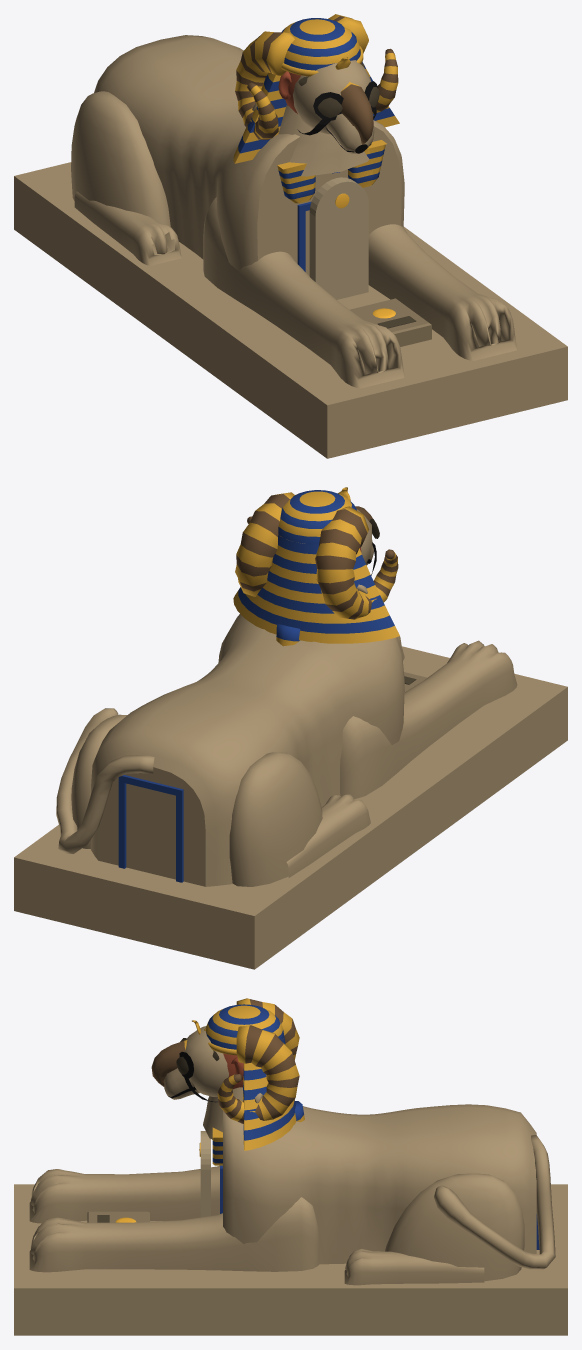
Rendered from sphinx.glb.
3 renders of one model, top to bottom at view 1: azimuth 30°, elevation 25°; view 2: azimuth 150°, elevation 25°; view 3: azimuth 270°, elevation 25°, orthographic. The views are drawn at different scales.
Visible parts, largest first — view 1: base, body, foreleg_mirror, foreleg, ram_head, king_head, stele, falcon_head, slab, falcon_beak, passage_frames; view 2: body, base, king_head, foreleg_mirror, ram_head, rump_plug, passage_frames; view 3: body, base, foreleg, foreleg_mirror, ram_head, king_head, falcon_head, stele, falcon_beak, slab.
Boxes of the visible parts, <box> form: base: <box>14,162,567,458</box>; body: <box>71,35,404,270</box>; foreleg_mirror: <box>203,197,404,388</box>; foreleg: <box>368,224,517,360</box>; ram_head: <box>235,14,398,176</box>; king_head: <box>233,18,399,203</box>; stele: <box>309,177,368,299</box>; falcon_head: <box>293,60,377,202</box>; slab: <box>350,298,431,346</box>; falcon_beak: <box>340,82,373,144</box>; passage_frames: <box>297,202,311,271</box>; body: <box>56,614,404,886</box>; base: <box>14,646,567,969</box>; king_head: <box>233,490,399,646</box>; foreleg_mirror: <box>340,640,517,799</box>; ram_head: <box>235,492,398,619</box>; rump_plug: <box>126,783,175,879</box>; passage_frames: <box>118,775,183,882</box>; body: <box>223,1104,555,1285</box>; base: <box>14,1184,567,1335</box>; foreleg: <box>29,1197,319,1272</box>; foreleg_mirror: <box>29,1165,219,1223</box>; ram_head: <box>164,998,299,1139</box>; king_head: <box>205,1004,304,1165</box>; falcon_head: <box>179,1026,283,1131</box>; stele: <box>199,1131,210,1217</box>; falcon_beak: <box>151,1040,187,1086</box>; slab: <box>87,1211,149,1222</box>.
Bounding box in the file's own units: 0.47 × 0.5749 × 1.06.
